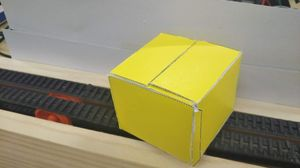box4: (106, 31, 243, 167)
